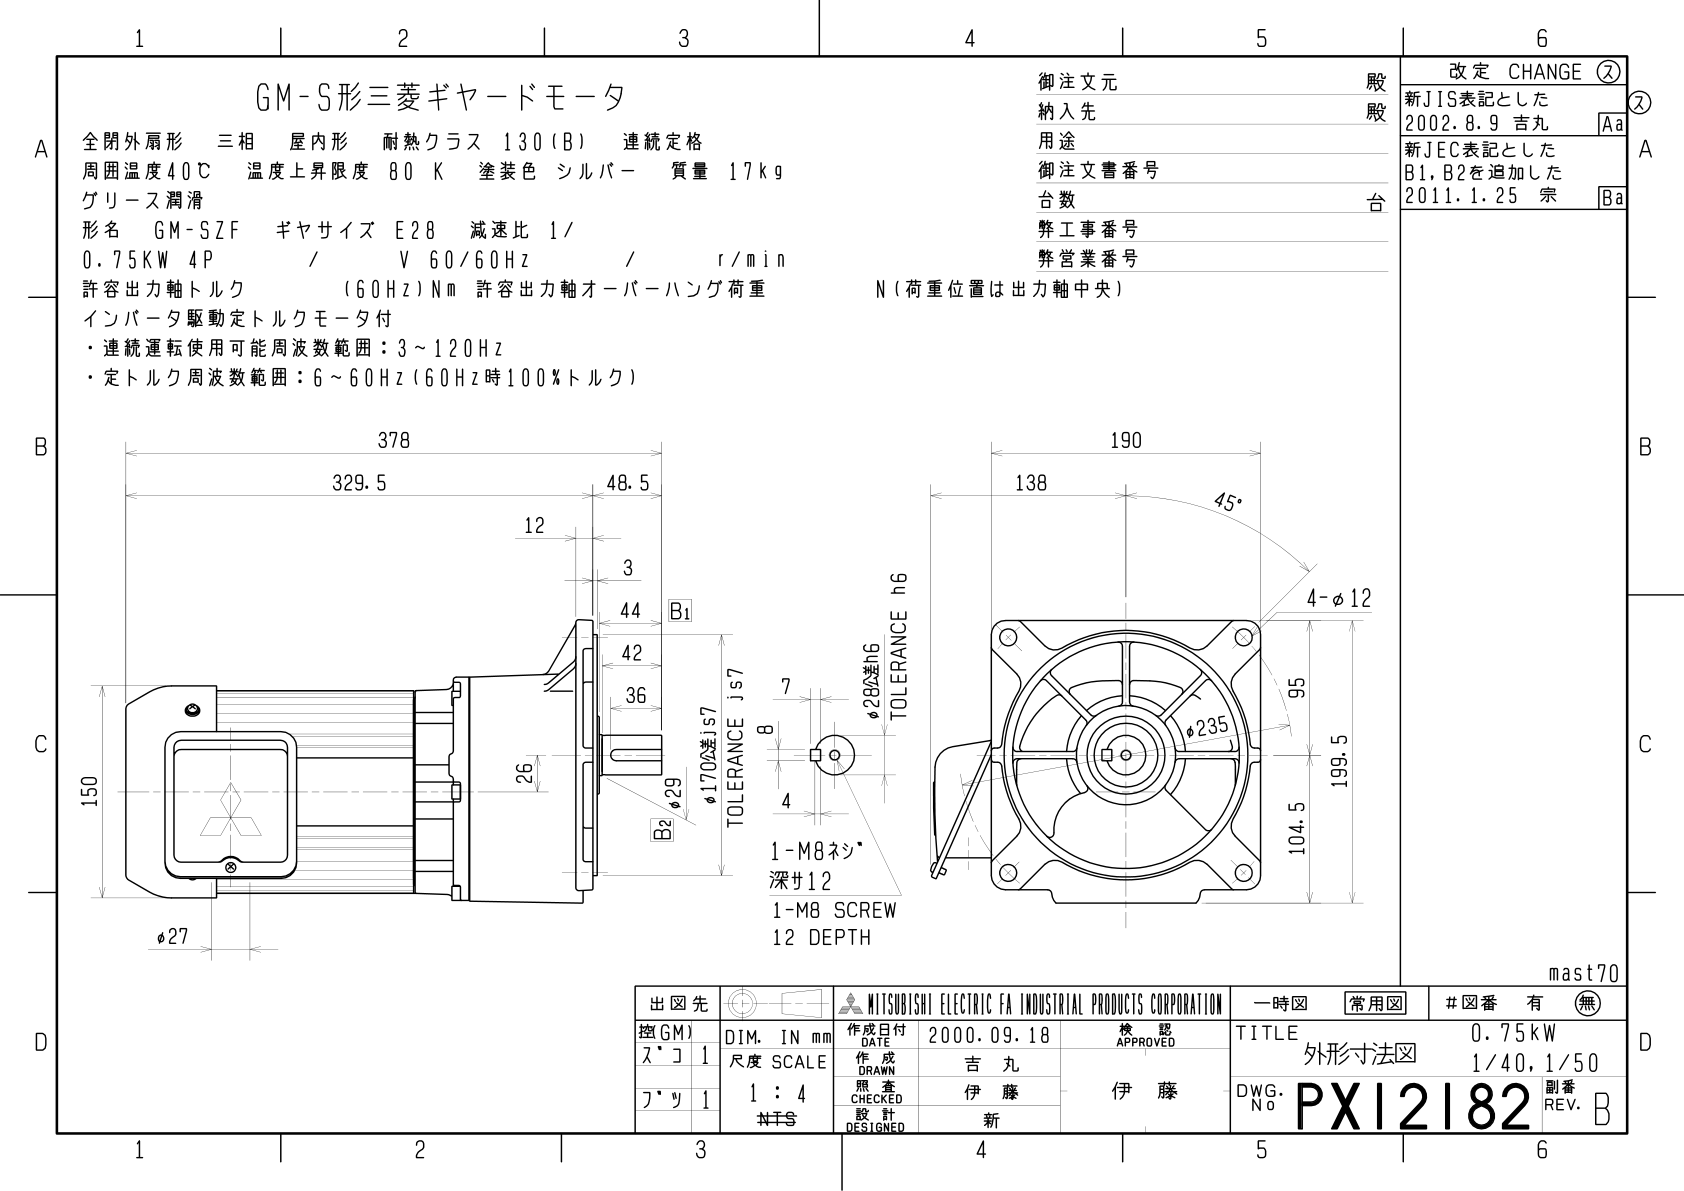GM_S_インバタ屋内＿三相_フランジ: (64, 402, 1386, 962)
